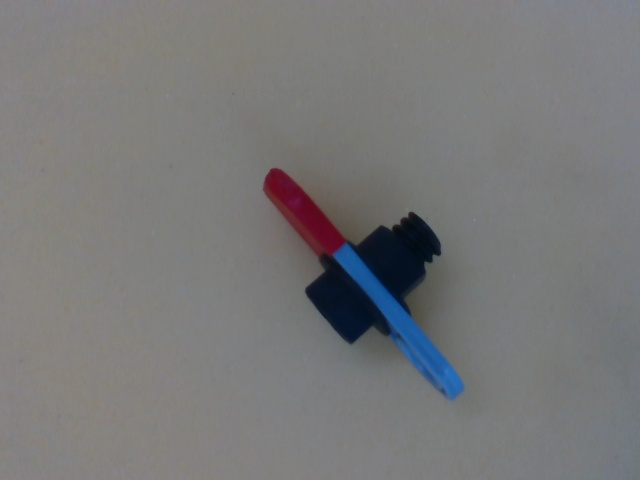part_1_good: (256, 162, 468, 407)
